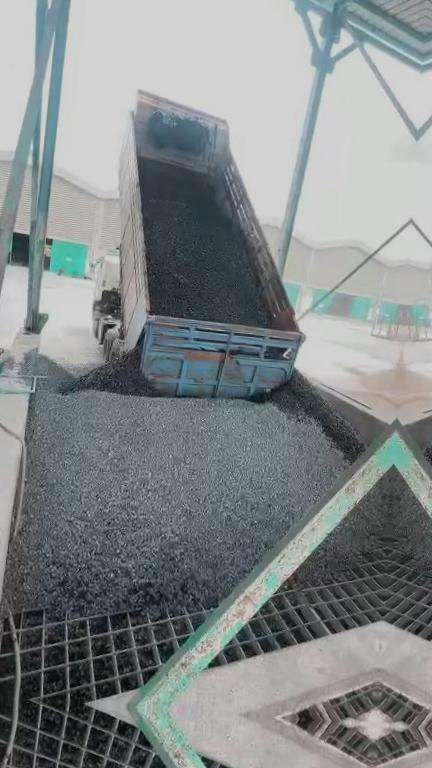gravel: (7, 341, 363, 617), (141, 161, 267, 325), (297, 475, 392, 583)
sand: (323, 362, 400, 421)
